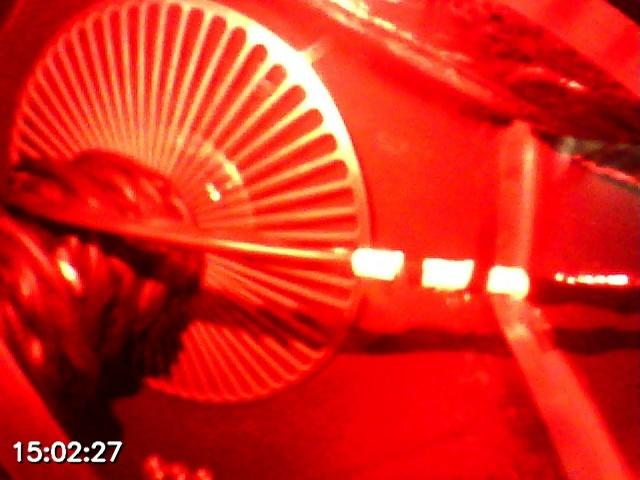white-dots: (350, 247, 530, 303)
